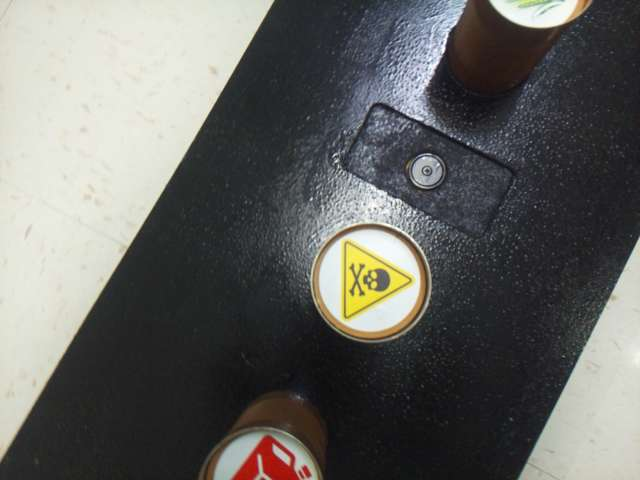gasoline: (217, 432, 319, 479)
toxic_fluid: (319, 230, 419, 331)
